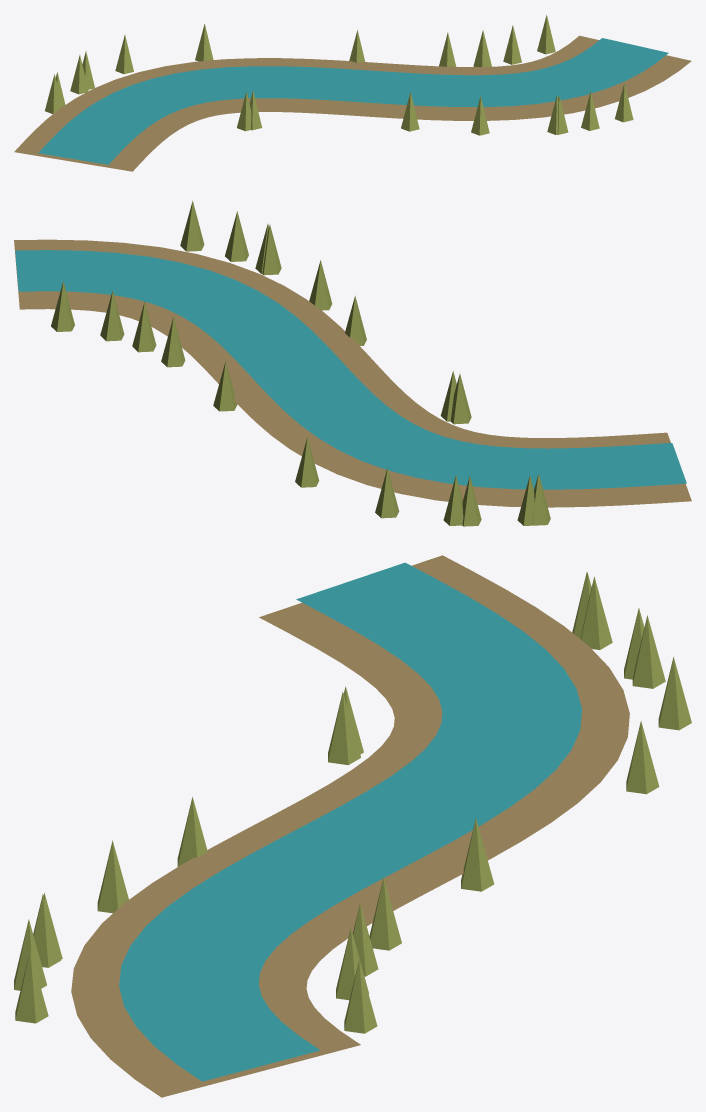
The model's file is FEATURE_FLOODPLAINS_PLAINS_v00.fbx.
3 views of the same model, one above another, from view 1: azimuth 30°, elevation 25°; view 2: azimuth 150°, elevation 25°; view 3: azimuth 270°, elevation 25° (orthographic). The views are drawn at different scales.
Parts seen in each view (by area): view 1: River_channel.006, Alluvial_banks.006, Riparian_grass.139, Riparian_grass.126, Riparian_grass.136, Riparian_grass.125, Riparian_grass.129, Riparian_grass.132, Riparian_grass.122, Riparian_grass.135, Riparian_grass.130, Riparian_grass.133 (+6 smaller); view 2: River_channel.006, Alluvial_banks.006, Riparian_grass.130, Riparian_grass.133, Riparian_grass.123, Riparian_grass.129, Riparian_grass.132, Riparian_grass.135, Riparian_grass.139, Riparian_grass.122, Riparian_grass.124, Riparian_grass.128 (+7 smaller); view 3: River_channel.006, Alluvial_banks.006, Riparian_grass.132, Riparian_grass.122, Riparian_grass.139, Riparian_grass.130, Riparian_grass.124, Riparian_grass.134, Riparian_grass.121, Riparian_grass.123, Riparian_grass.137, Riparian_grass.125 (+5 smaller).
Part boxes in pixels (x1,y1,x2,y2): River_channel.006: (38,38,668,164); Alluvial_banks.006: (14,35,691,171); Riparian_grass.139: (615,82,633,122); Riparian_grass.126: (70,55,88,94); Riparian_grass.136: (401,92,419,131); Riparian_grass.125: (471,96,489,135); Riparian_grass.129: (503,25,521,64); Riparian_grass.132: (115,35,133,74); Riparian_grass.122: (537,15,555,54); Riparian_grass.135: (581,91,599,130); Riparian_grass.130: (195,24,213,61); Riparian_grass.133: (473,30,491,67); River_channel.006: (15,250,686,489); Alluvial_banks.006: (14,239,691,507); Riparian_grass.130: (295,437,319,487); Riparian_grass.133: (132,301,156,352); Riparian_grass.123: (161,316,185,367); Riparian_grass.129: (100,290,124,341); Riparian_grass.132: (375,467,399,518); Riparian_grass.135: (225,211,248,261); Riparian_grass.139: (180,201,204,251); Riparian_grass.122: (51,281,74,331); Riparian_grass.124: (213,360,237,411); Riparian_grass.128: (450,374,471,424); River_channel.006: (119,562,581,1081); Alluvial_banks.006: (71,555,629,1097); Riparian_grass.132: (658,657,691,730); Riparian_grass.122: (344,960,377,1033); Riparian_grass.139: (15,950,48,1023); Riparian_grass.130: (626,721,659,794); Riparian_grass.124: (461,818,494,891); Riparian_grass.134: (632,615,665,688); Riparian_grass.121: (328,691,360,764); Riparian_grass.123: (369,877,401,950); Riparian_grass.137: (580,576,612,649); Riparian_grass.125: (97,840,128,913).
Bounding box in the file's own units: 174 × 10 × 92.15.
